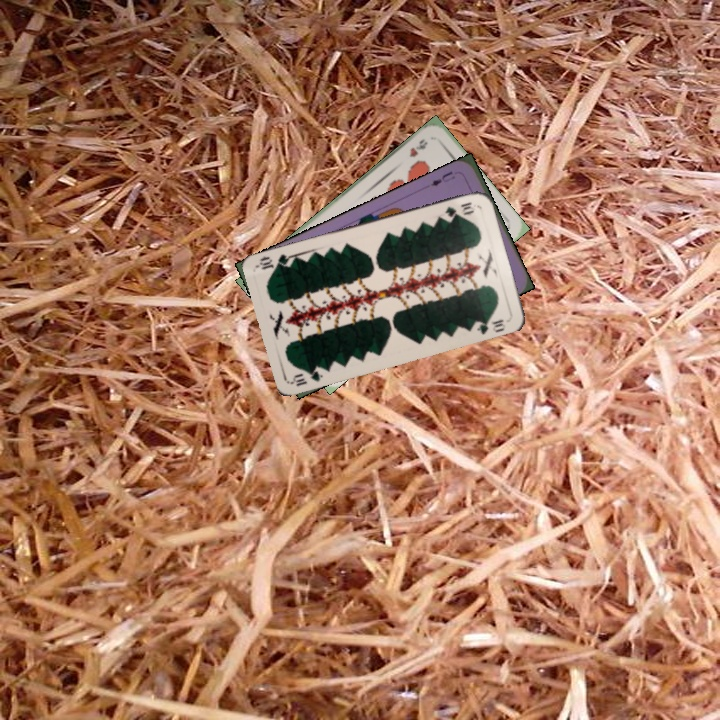EU: (426, 167, 458, 189)
G10: (288, 363, 328, 389), (441, 198, 478, 220)
H9: (405, 135, 430, 160)
